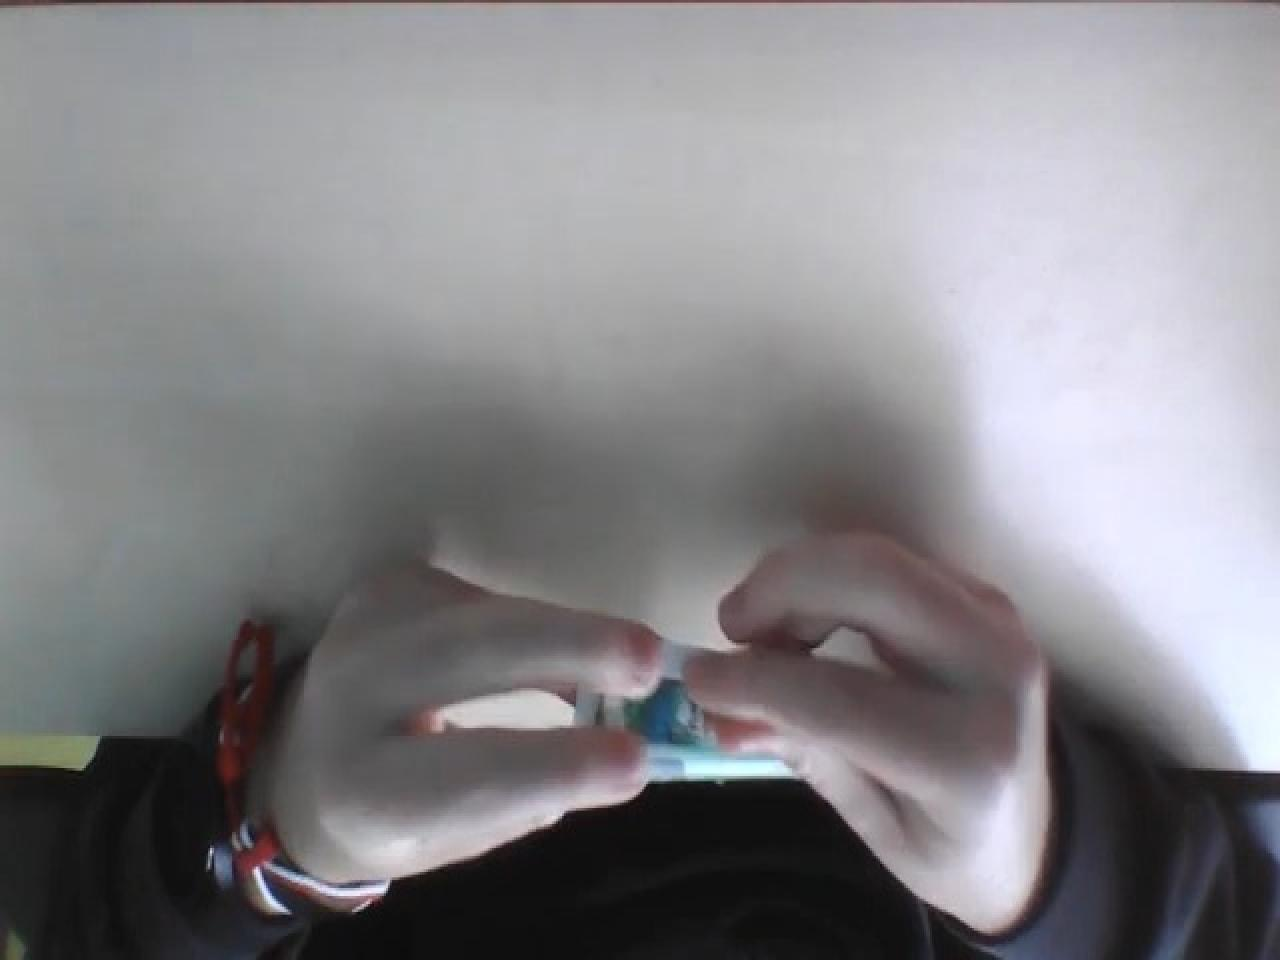100leva: (572, 672, 804, 790)
